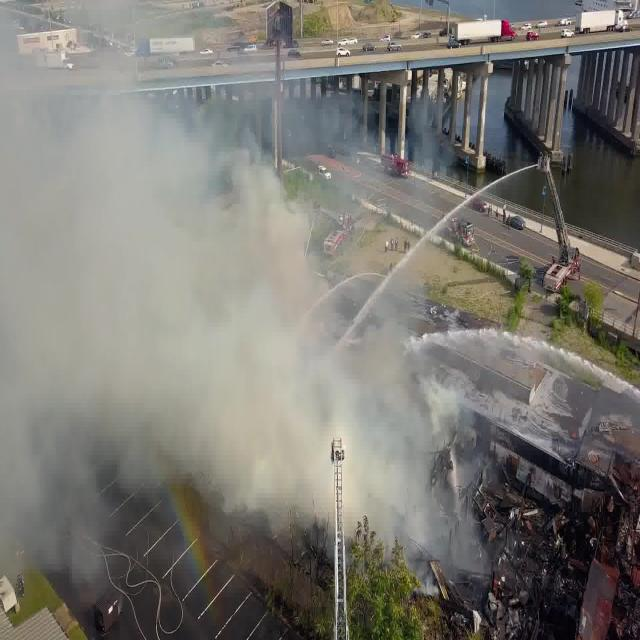Smoke: (0, 24, 518, 610)
